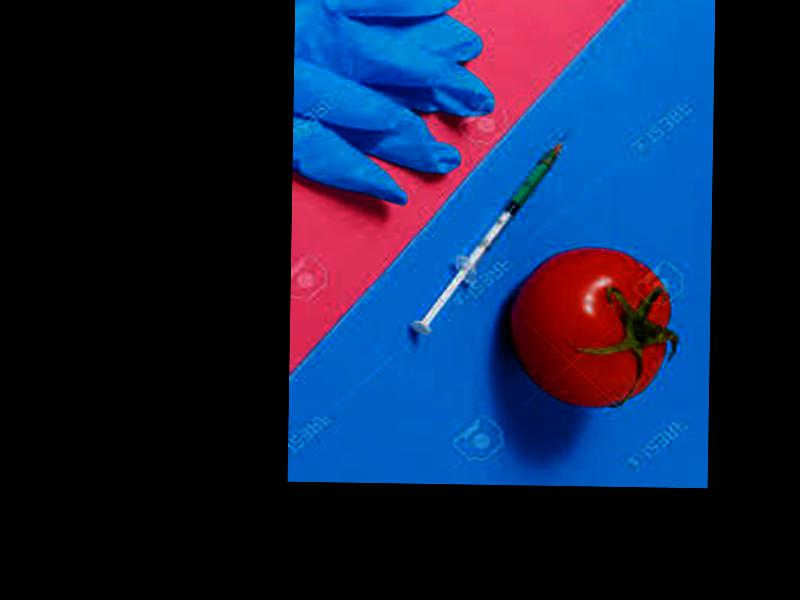Tomato: (506, 246, 669, 405)
